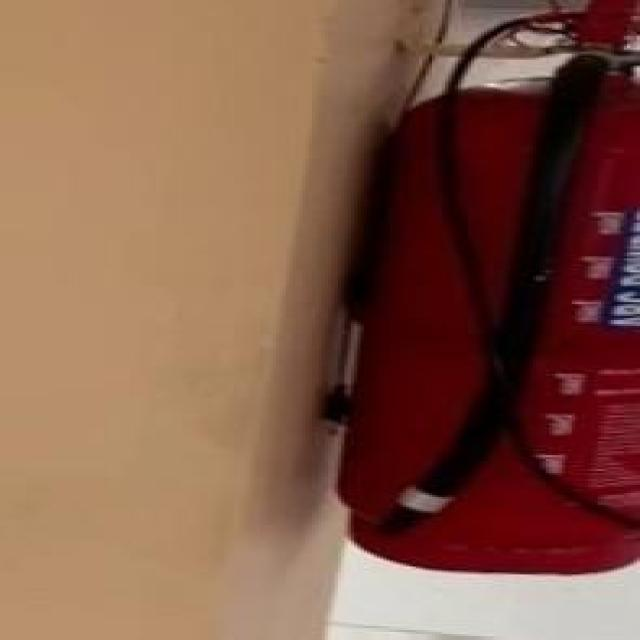fire_extinguisher: (318, 5, 637, 577)
